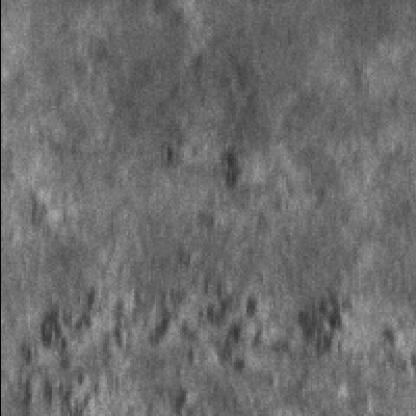rolled-in_scale: (137, 227, 289, 414), (8, 274, 154, 414), (264, 281, 358, 362)
